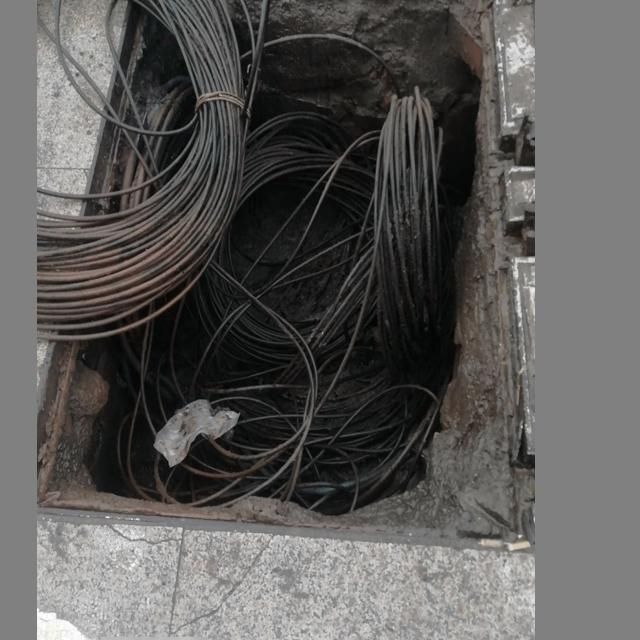lose: (48, 0, 523, 580)
